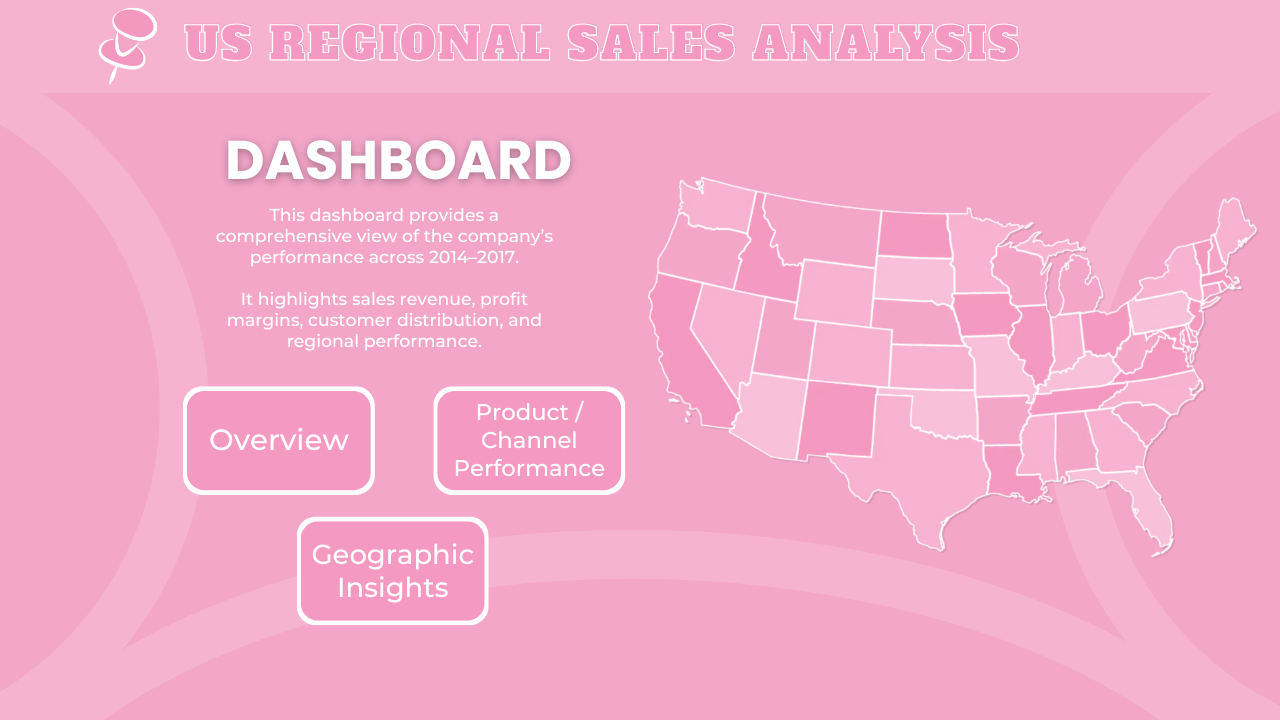

Layout of this report page (visuals, bound fields, positions):
{"tool":"powerbi","page":{"name":"Home","canvas":[1280,720],"ordinal":0},"visuals":[{"type":"actionButton","box":[182.2,382.2,194.4,113.3],"z":0},{"type":"actionButton","box":[433.3,382.2,194.4,113.3],"z":1000},{"type":"actionButton","box":[296.7,512.2,193.3,113.3],"z":2000}]}

Visuals, with their boxes in screenshot pixels (x1, y1, x2, y2), scaled from the page's 1280x720 canvas onto the 1280x720 screenshot:
actionButton: region(182, 382, 377, 496)
actionButton: region(433, 382, 628, 496)
actionButton: region(297, 512, 490, 626)
